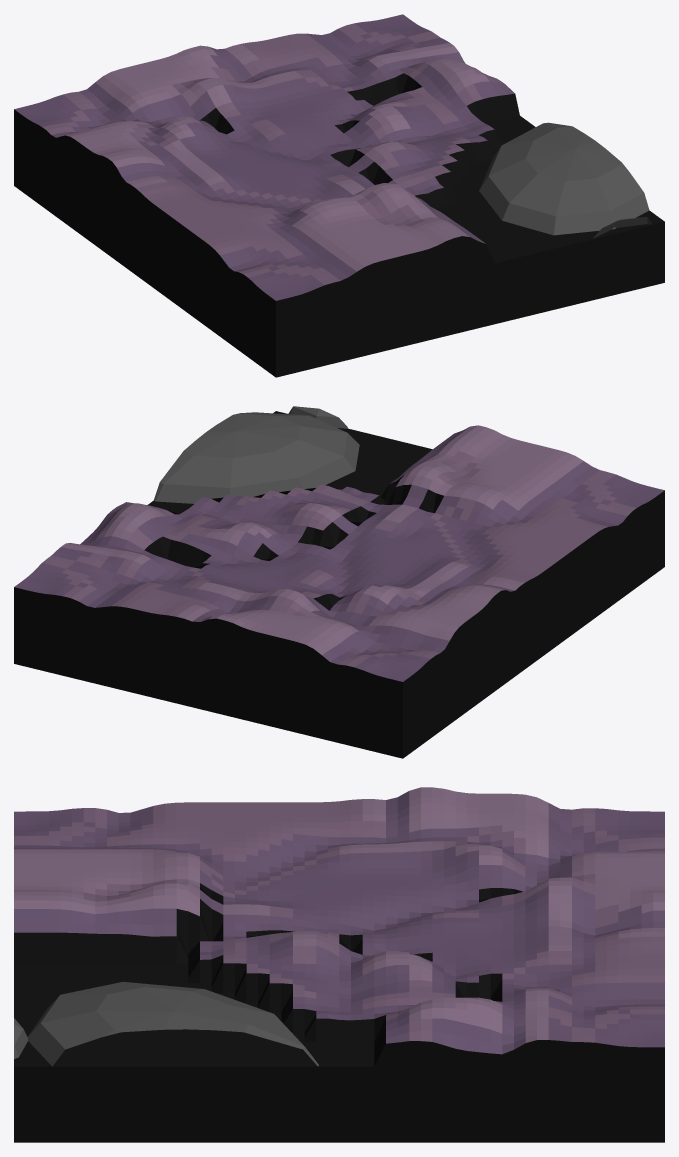
The picture shows the model from 3 angles, top to bottom: view 1: azimuth 30°, elevation 25°; view 2: azimuth 150°, elevation 25°; view 3: azimuth 270°, elevation 25°; orthographic projection. The views are drawn at different scales.
Parts seen in each view (by area): view 1: shapesz-t169; view 2: shapesz-t169; view 3: shapesz-t169.
Boxes of the visible parts, x1,y1,x2,y2 form: shapesz-t169: (14,14,664,377); shapesz-t169: (14,406,664,758); shapesz-t169: (14,787,664,1142).
Bounding box in the file's own units: 2 × 0.5 × 2.33.
